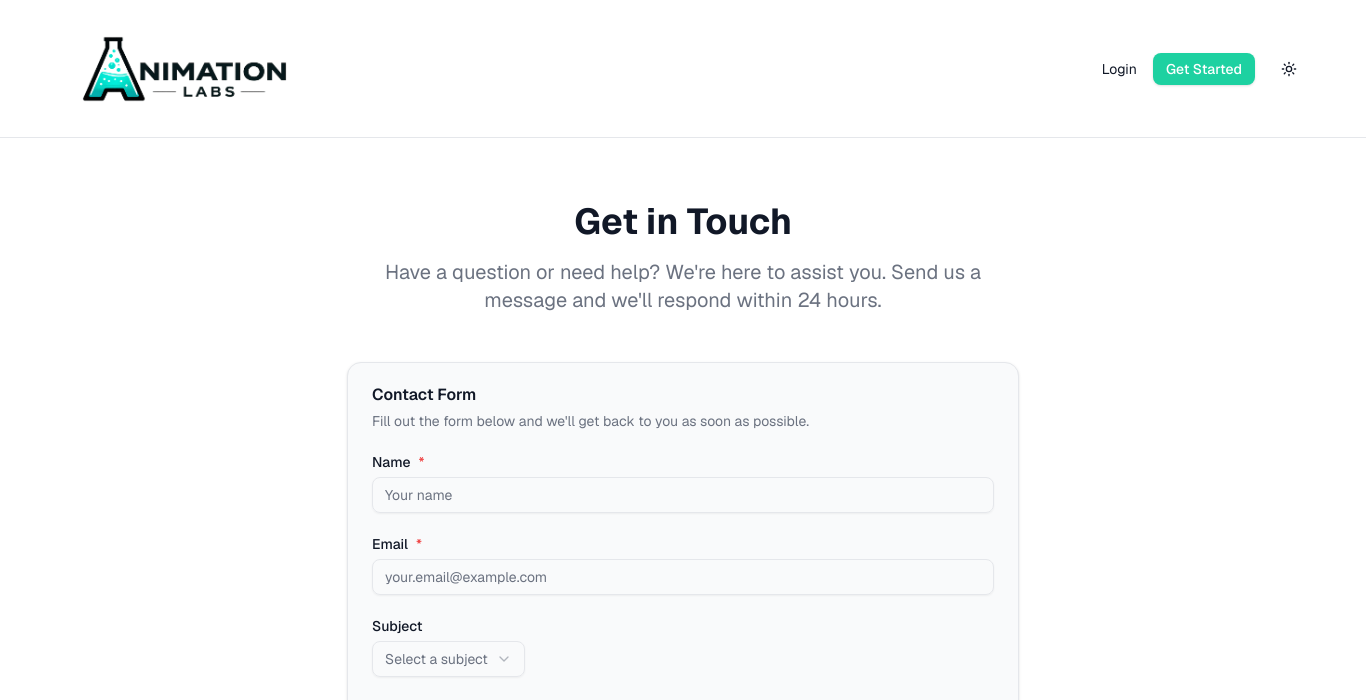
Test: Contact Page › submits form successfully with all fields
This screenshot has width=1366, height=700.
In the field labelled "Name *": x=683, y=495 [372,477,994,513], type "John Doe"
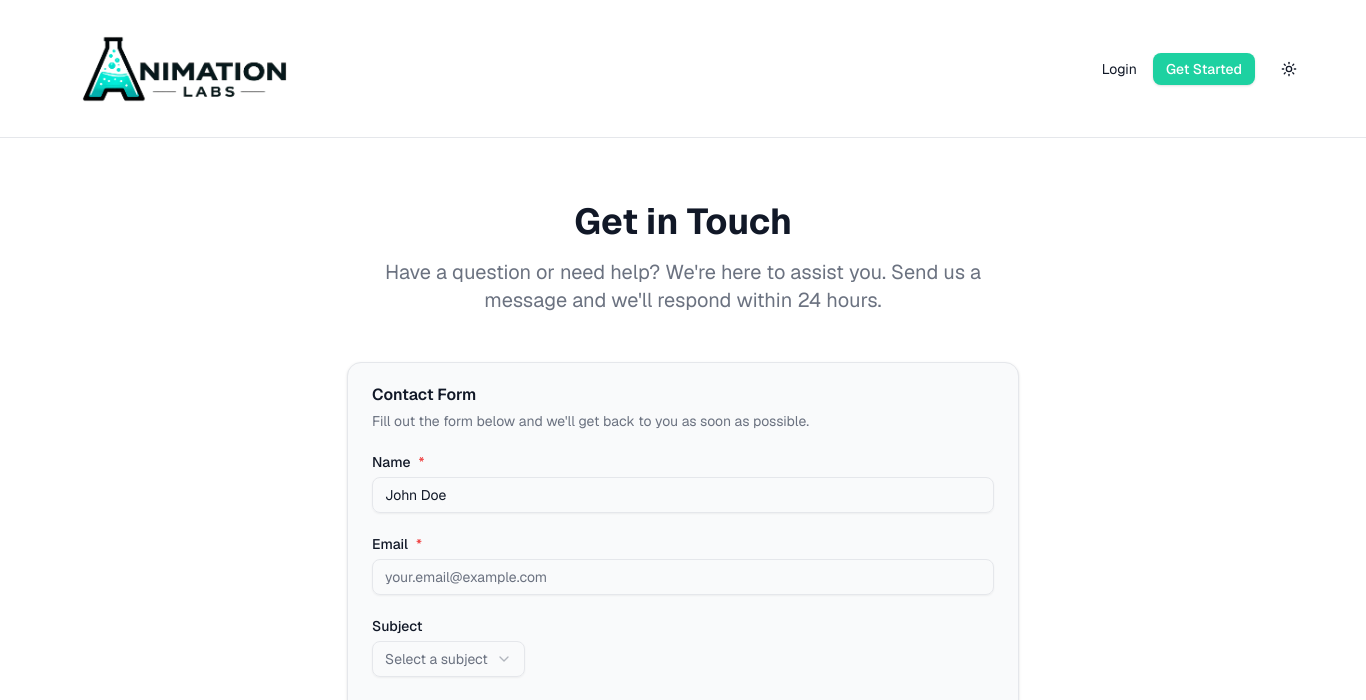
In the field labelled "Email *": x=683, y=577 [372,559,994,595], type "john@example.com"
(page scrolled)
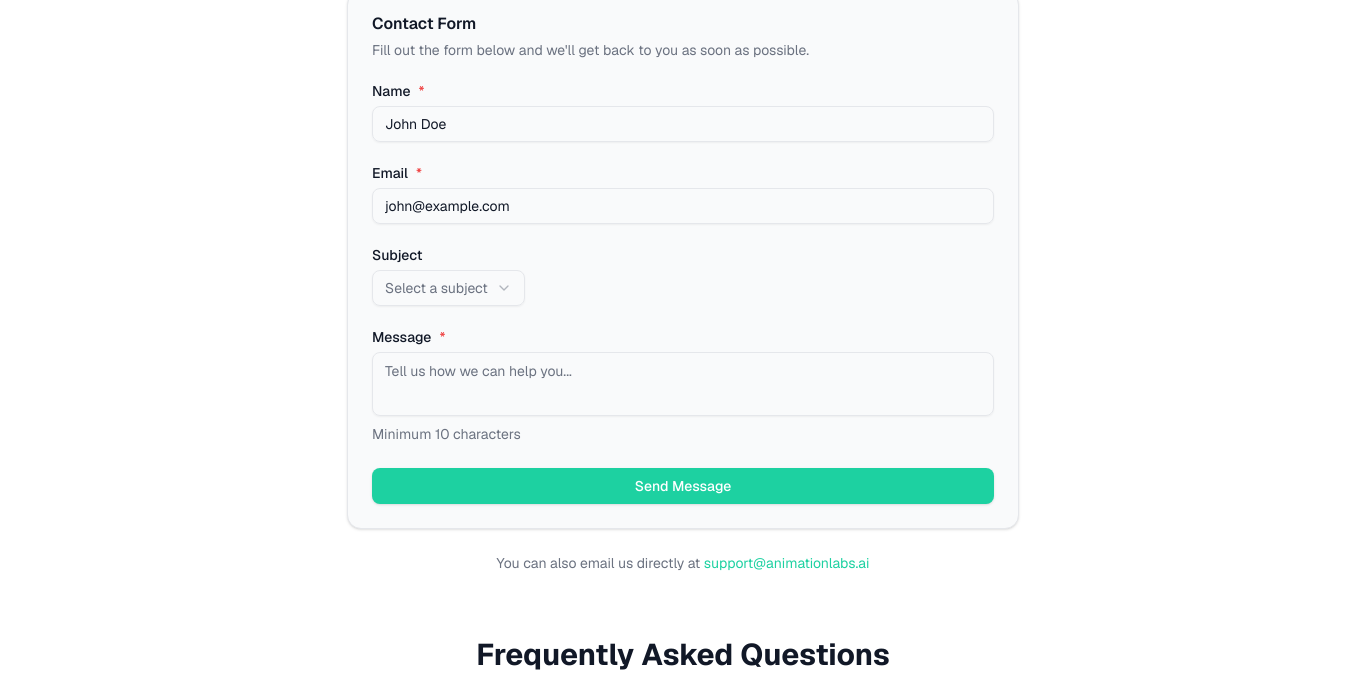
In the text box labelled "Message *": x=683, y=384 [372,352,994,416], type "This is a test message with enough characters"
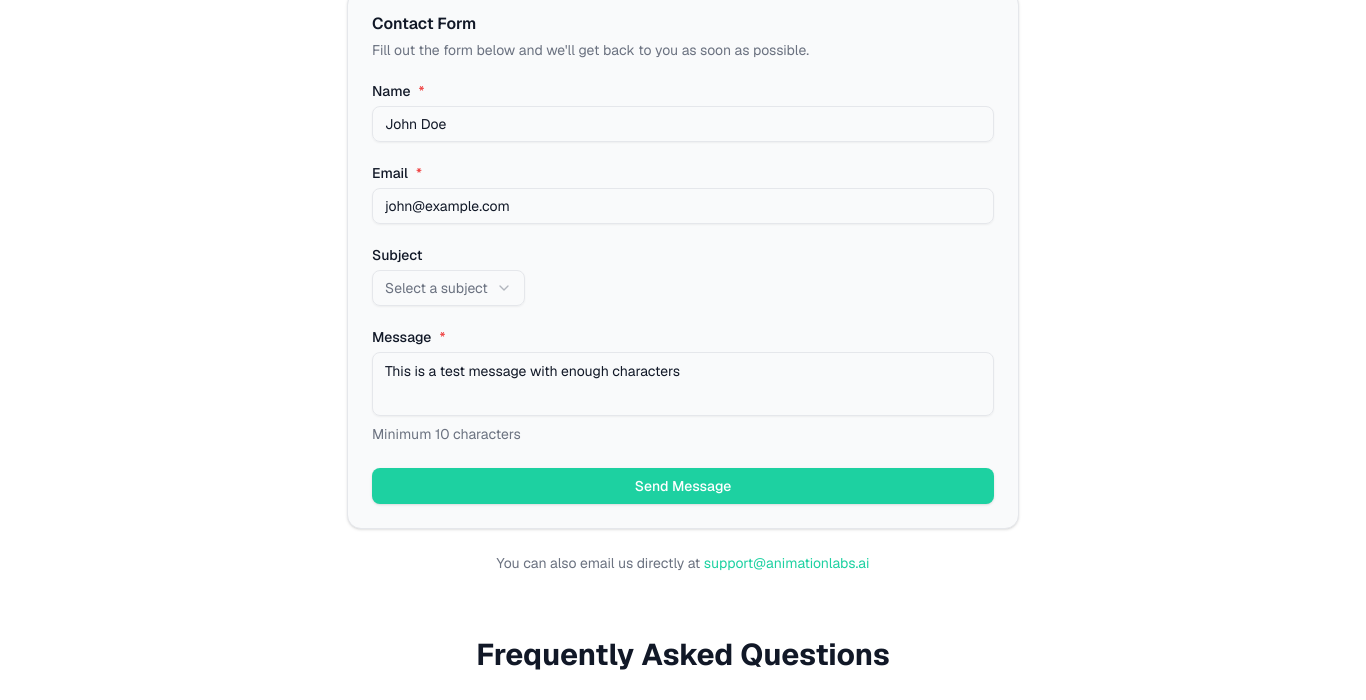
Click the button "Send Message": x=683, y=486 [372,468,994,504]
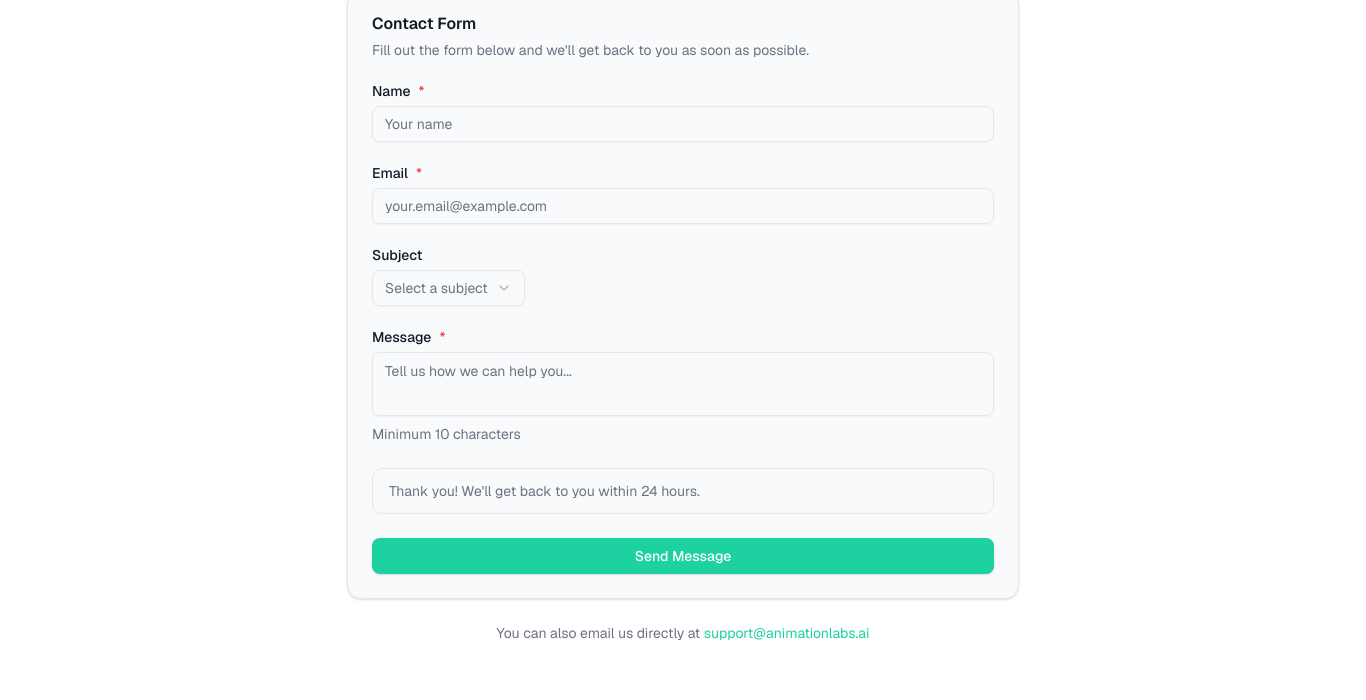
Now the text "Thank you! We'll get back to you within 24 hours." is shown, box [389,482,700,500]
